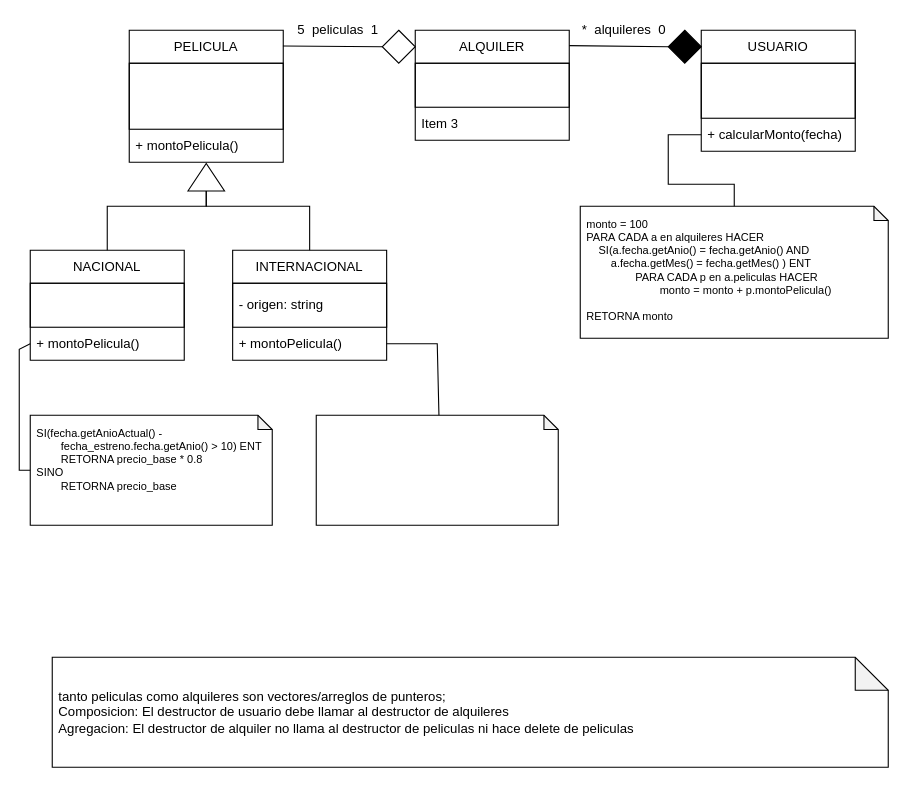
Some shapes in this 908 by 787 pixel diagram are drawn without their labels. Each missing label, with the centre of its shape:
"- correo: string - tarjeta: tarjeta" belongs at point 777,90.
"- fecha: fecha" belongs at point 491,84.
"- nombre: string - fecha_estreno: fecha - precio_base: float" belongs at point 205,95.
"RETORNA precio_base * 1.3" belongs at point 436,469.
